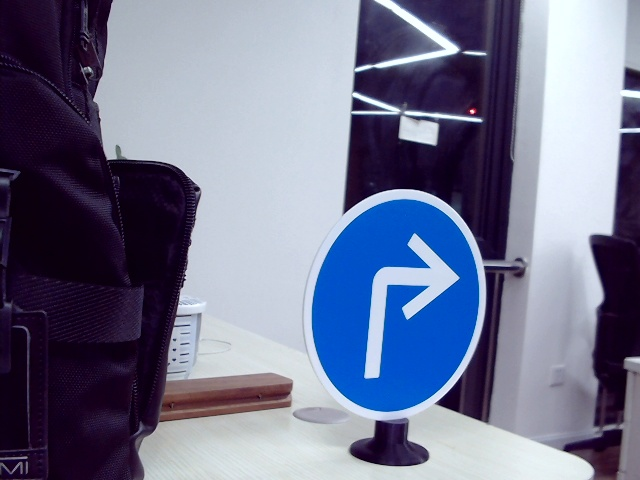turn_right: (353, 231, 454, 381)
